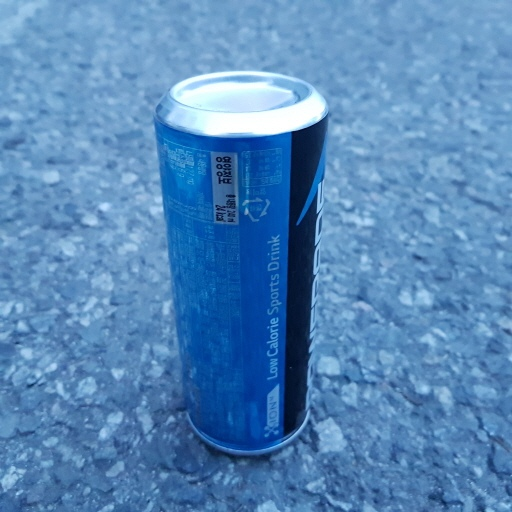Metal_0: (150, 71, 333, 457)
